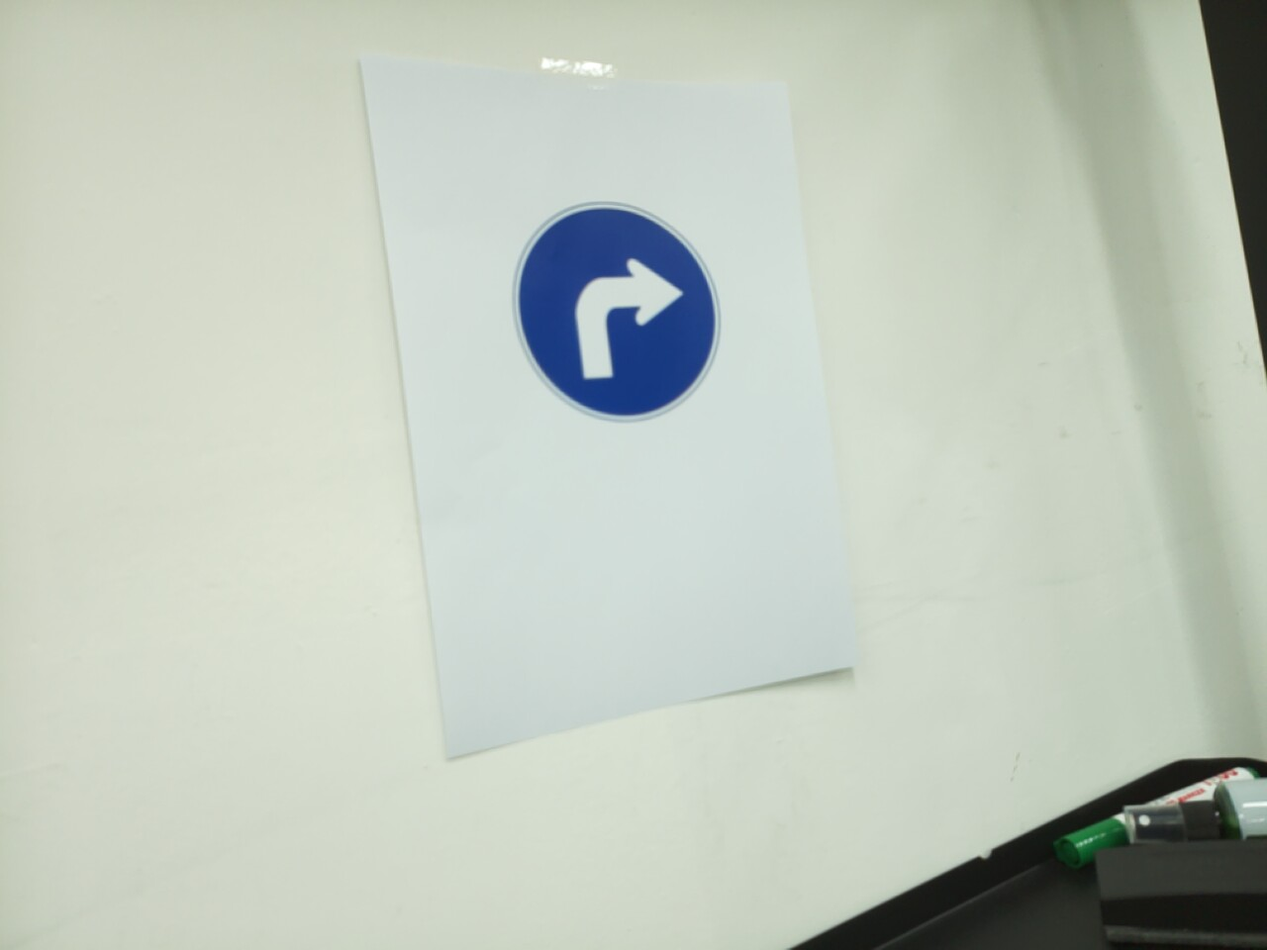right_turn: (511, 200, 724, 424)
